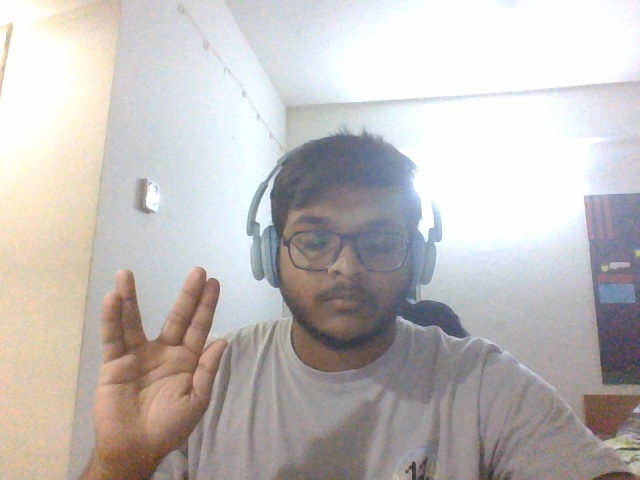LiveLong: (94, 267, 229, 457)
